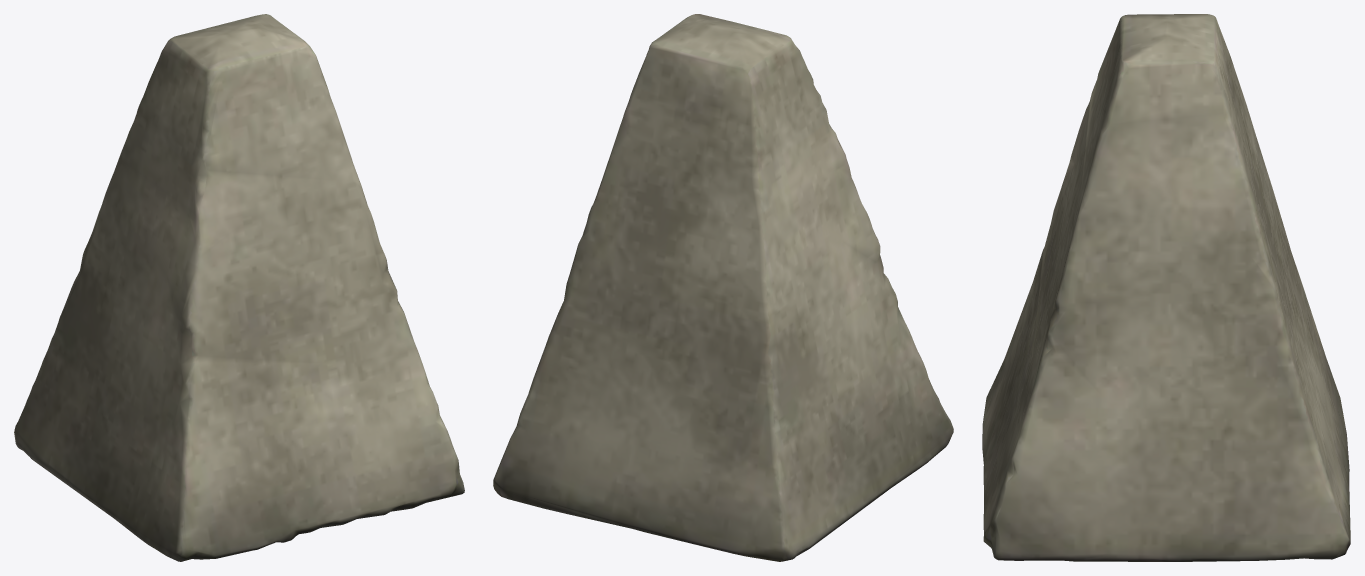
Rendered from rustic-limestone-sundial-v001.glb.
3 renders of one model, left to right at view 1: azimuth 30°, elevation 25°; view 2: azimuth 150°, elevation 25°; view 3: azimuth 270°, elevation 25°, orthographic. The views are drawn at different scales.
Parts seen in each view (by area): view 1: rustic-limestone-sundial; view 2: rustic-limestone-sundial; view 3: rustic-limestone-sundial.
Boxes of the visible parts, x1,y1,x2,y2 form: rustic-limestone-sundial: (14,14,464,561); rustic-limestone-sundial: (493,14,953,561); rustic-limestone-sundial: (982,14,1350,561).
Size of the model in its own units: 0.8484 by 1.19 by 0.862.
Materials: 1 (1 with a texture image).
